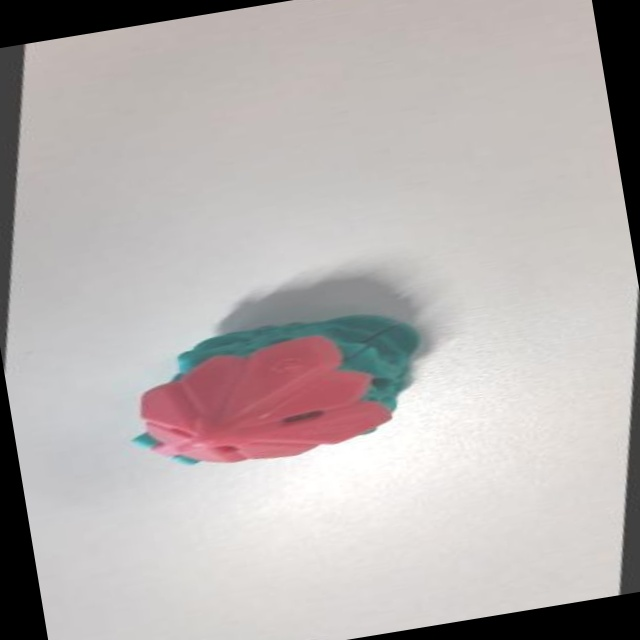House: (104, 283, 460, 499)
